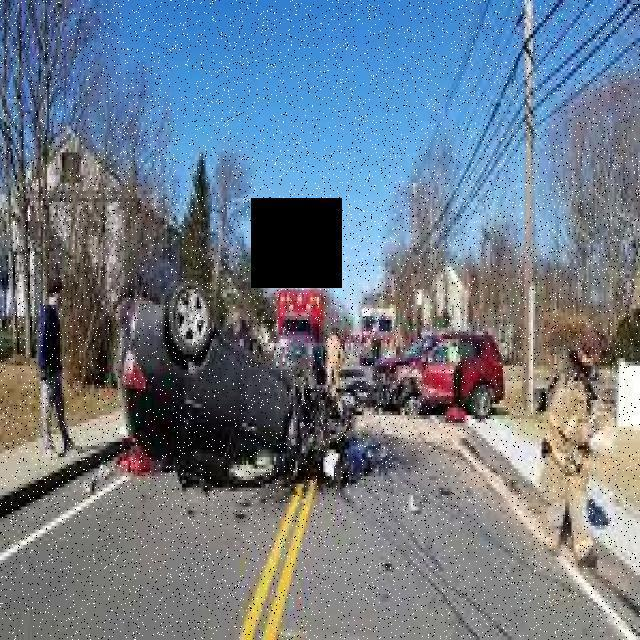multiple_accident: (90, 230, 392, 535), (323, 297, 528, 445)
